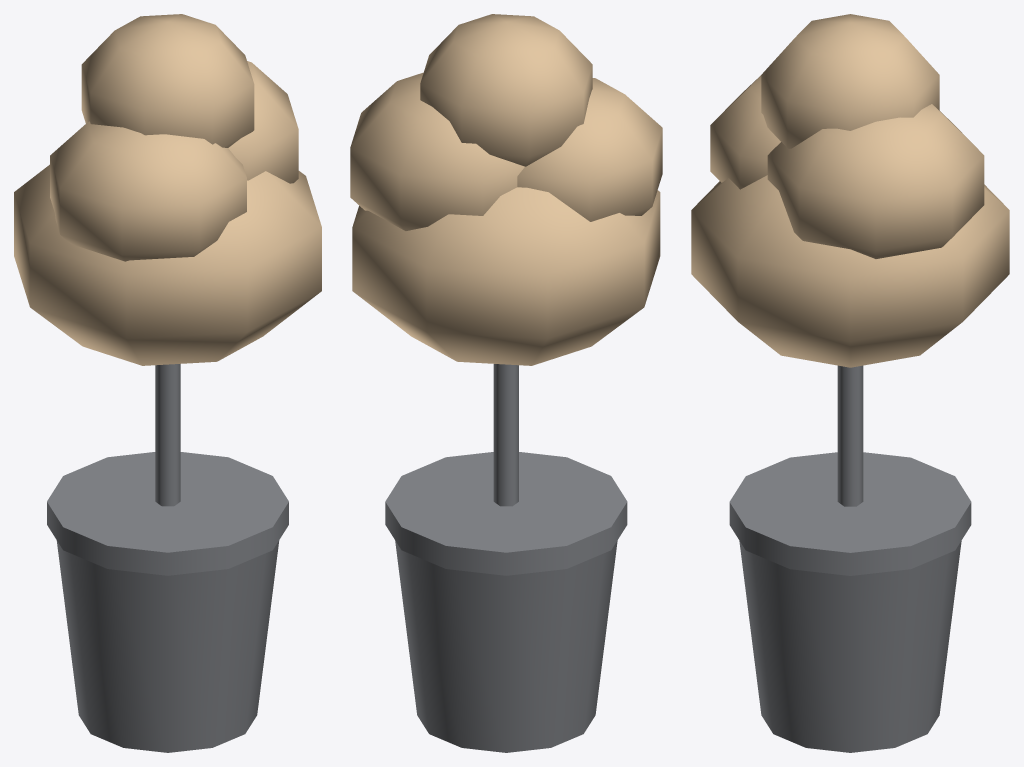
The model's file is plant.glb.
The picture shows the model from 3 angles, left to right: view 1: azimuth 30°, elevation 25°; view 2: azimuth 150°, elevation 25°; view 3: azimuth 270°, elevation 25°; orthographic projection.
Parts seen in each view (by area): view 1: plant; view 2: plant; view 3: plant.
Boxes of the visible parts, x1,y1,x2,y2 form: plant: (14, 14, 321, 752); plant: (350, 14, 662, 752); plant: (691, 14, 1009, 752).
Size of the model in its own units: 0.5 by 1.2 by 0.5.
